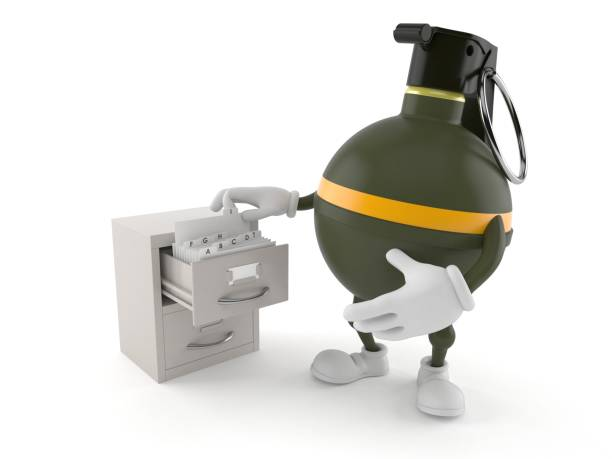e1: (312, 26, 527, 333)
